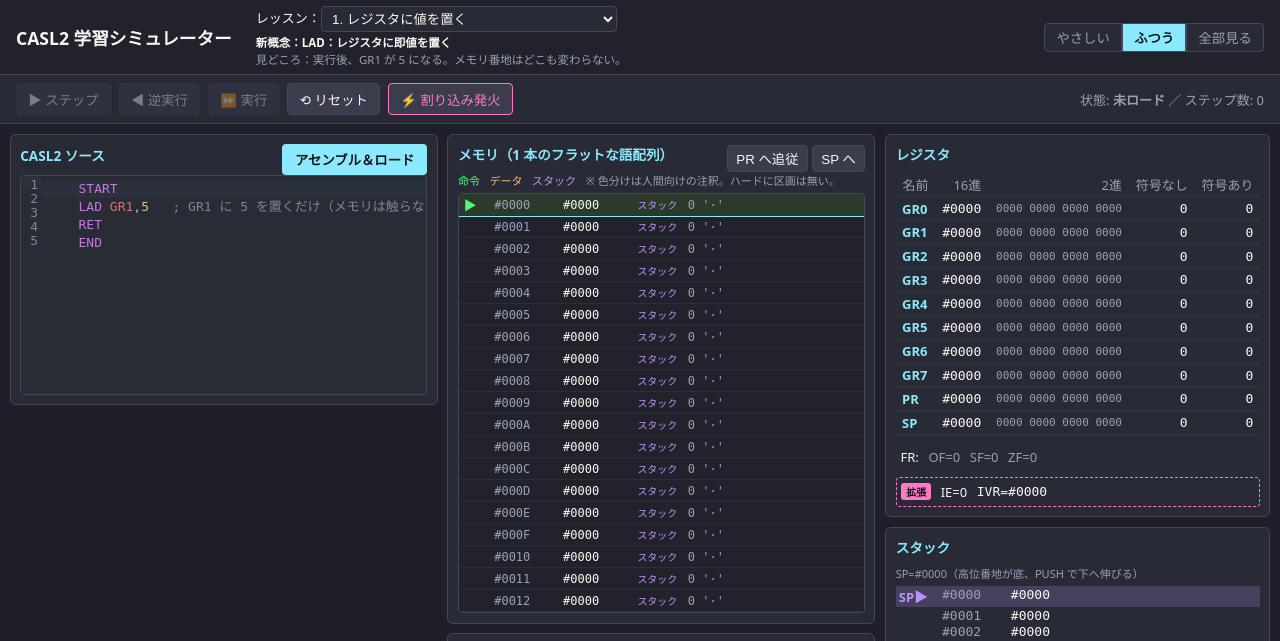
it: App 統合 › 逆実行ボタンはステップ後に有効になる
Click the button "アセンブル＆ロード".
click(355, 160)  # box [282, 144, 427, 175]
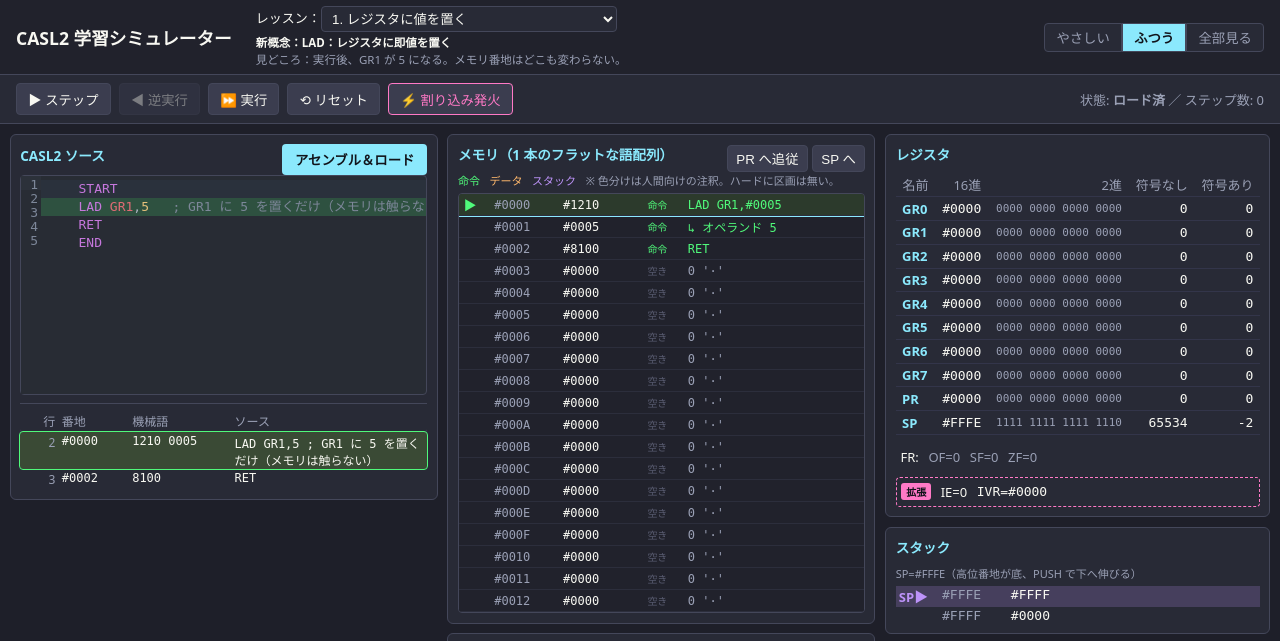
Check: the button "◀ 逆実行" is disabled, box [119, 83, 200, 115]
Click the button "▶ ステップ".
click(63, 99)  # box [16, 83, 111, 115]
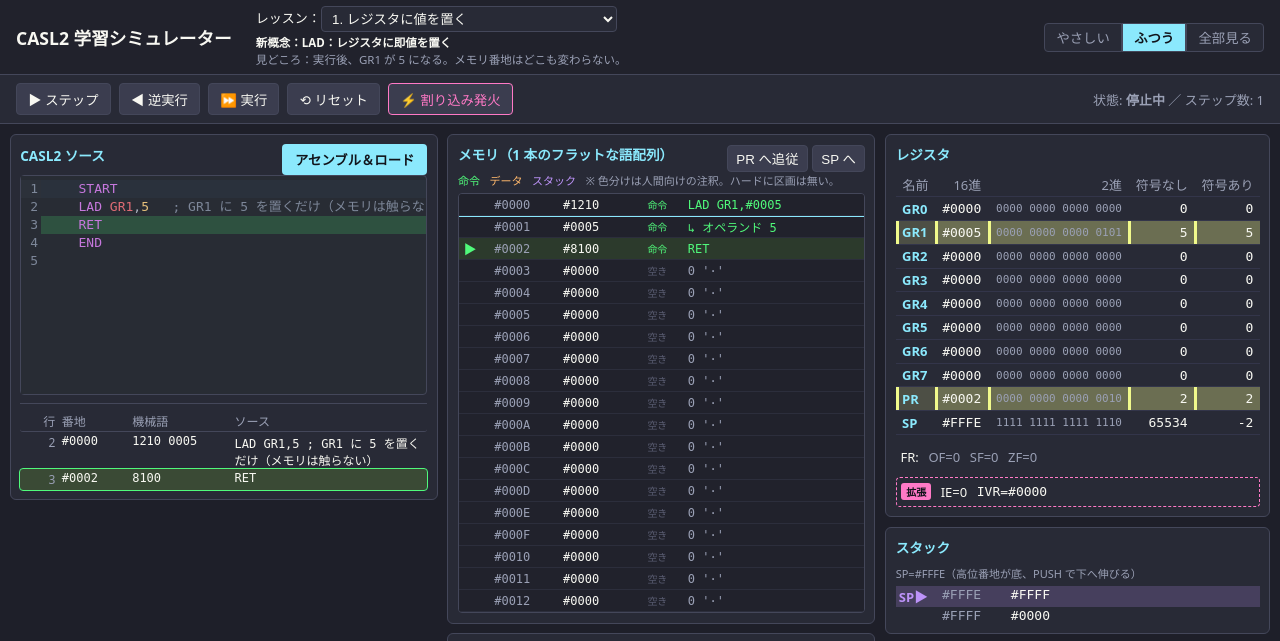
Check: the button "◀ 逆実行" is enabled, box [119, 83, 200, 115]
